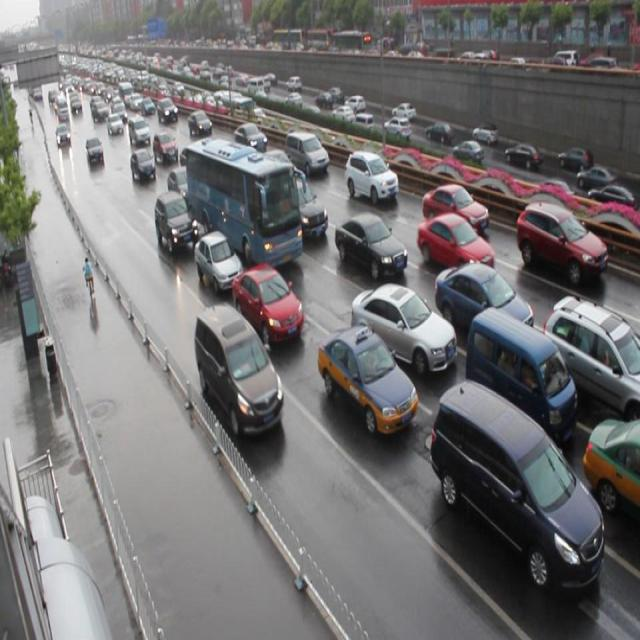car: (540, 294, 640, 422), (317, 326, 416, 435), (350, 282, 456, 378), (515, 199, 606, 286), (434, 261, 532, 340), (580, 415, 640, 522), (231, 263, 304, 344), (334, 210, 407, 279), (417, 212, 492, 277), (421, 181, 488, 235), (275, 177, 329, 240), (195, 230, 244, 293), (343, 149, 398, 203), (154, 190, 198, 250), (233, 121, 267, 156), (166, 164, 193, 205)
truck: (432, 380, 602, 590), (464, 306, 572, 443), (194, 301, 283, 434), (283, 130, 329, 176)
van: (186, 136, 302, 268)
